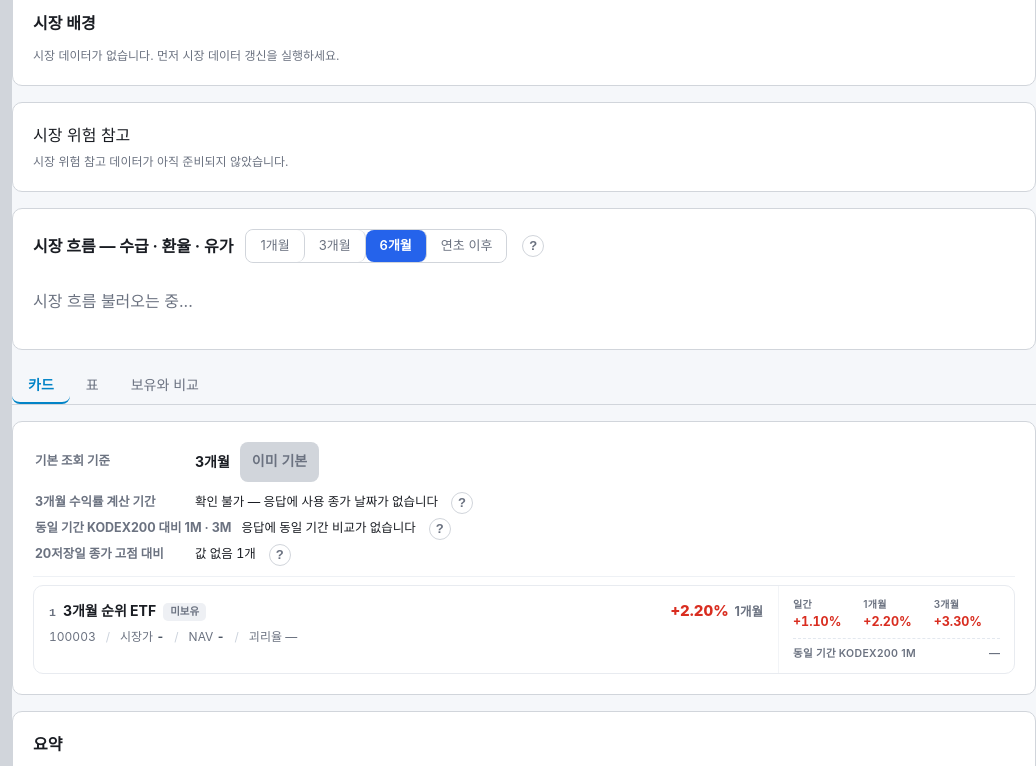
Test: 명시 저장 · 임시 변경 (POC5-26 설계 §2 · §3 · 판정 §2) › 표 머리로 다른 기준을 보면 기본은 그대로 · '지금 보는 기준 1개월' · [이 기준을 기본으로]
(page scrolled)
What coordinates should you click on to do the following:
click the tab "표"
I would click on:
 (92, 384)
Its box is [70,366,115,404].
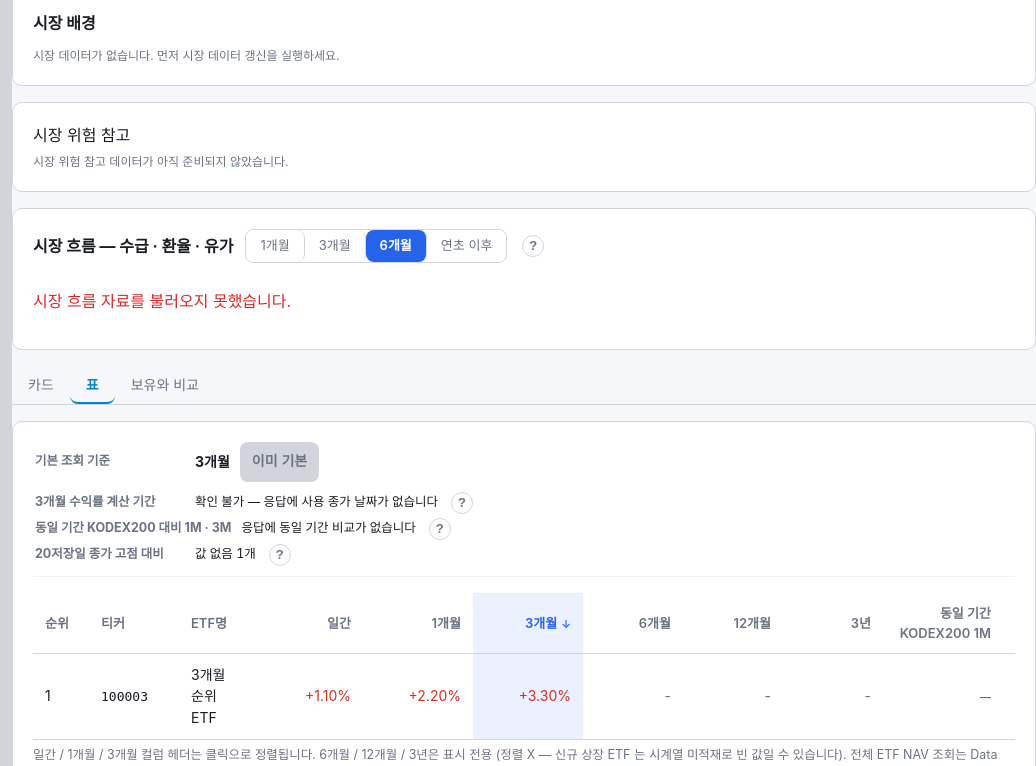
What coordinates should you click on to do the following:
click the column heading "1개월"
I would click on:
 (418, 623)
Its box is [363,592,473,653].
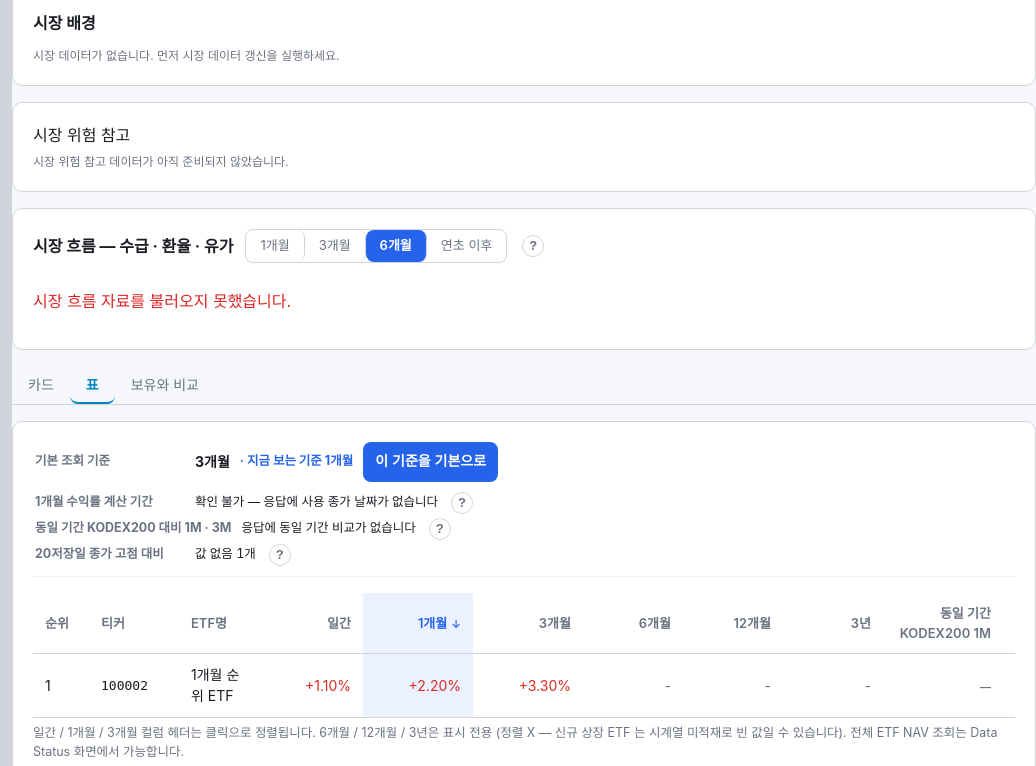
Expected: the element with test id "market-basis-default" shows "· 지금 보는 기준 1개월", [35,442,498,482]
Expected: the button "이 기준을 기본으로" is shown, [363,442,498,482]
Expected: the button "이 기준을 기본으로" is enabled, [363,442,498,482]
